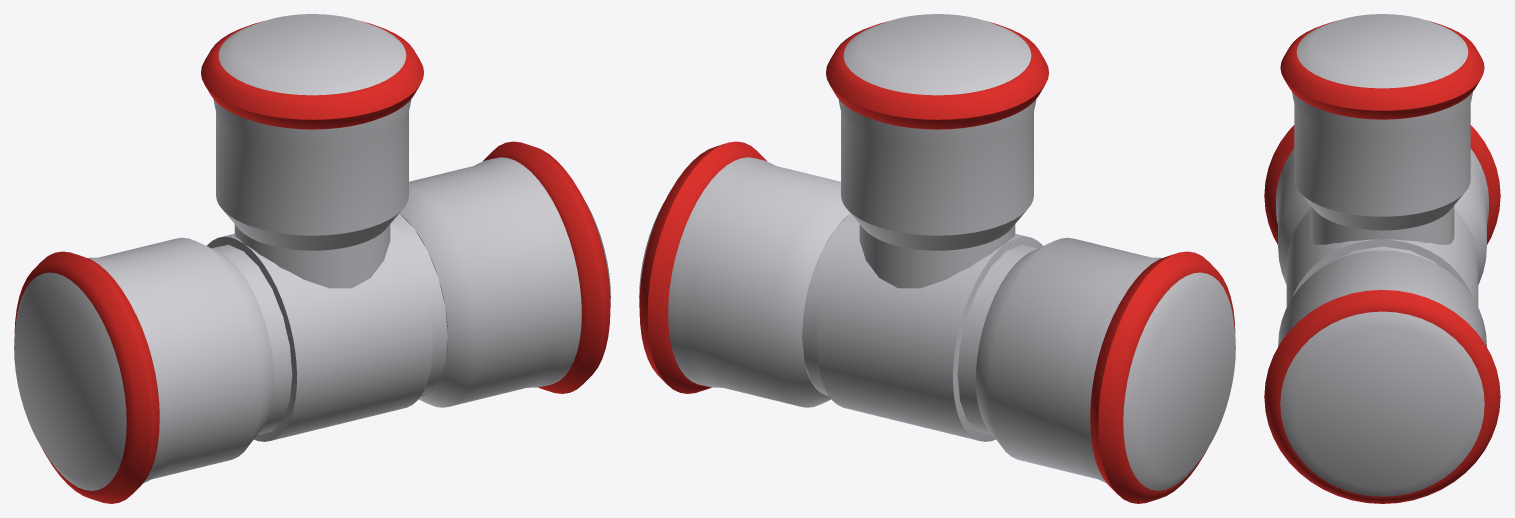
File: fitting_tee_28x22_r.glb
3 renders of one model, left to right at view 1: azimuth 30°, elevation 25°; view 2: azimuth 150°, elevation 25°; view 3: azimuth 270°, elevation 25°, orthographic. The views are drawn at different scales.
Parts seen in each view (by area): view 1: раструб.001, раструб.002, раструб, узел, кольцо пресс.001, кольцо пресс.002, кольцо пресс, корпус, корпус.001; view 2: раструб.001, раструб.002, раструб, узел, кольцо пресс.001, кольцо пресс.002, кольцо пресс, корпус, корпус.001; view 3: раструб, раструб.002, кольцо пресс, кольцо пресс.002, узел, раструб.001, кольцо пресс.001, корпус.001, корпус.
Boxes of the visible parts, x1,y1,x2,y2 form: раструб.001: (14, 237, 274, 490); раструб.002: (213, 14, 411, 250); раструб: (399, 157, 610, 407); узел: (207, 222, 432, 441); кольцо пресс.001: (14, 251, 159, 503); кольцо пресс.002: (201, 21, 423, 129); кольцо пресс: (482, 141, 610, 393); корпус: (212, 213, 447, 435); корпус.001: (234, 224, 390, 288); раструб.001: (975, 237, 1235, 490); раструб.002: (838, 14, 1036, 250); раструб: (639, 157, 850, 407); узел: (817, 222, 1042, 441); кольцо пресс.001: (1090, 251, 1235, 503); кольцо пресс.002: (826, 21, 1048, 129); кольцо пресс: (639, 141, 767, 393); корпус: (802, 213, 1037, 435); корпус.001: (859, 224, 1015, 288); раструб: (1278, 250, 1486, 496); раструб.002: (1292, 14, 1472, 230); кольцо пресс: (1264, 290, 1500, 503); кольцо пресс.002: (1280, 20, 1484, 119); узел: (1286, 209, 1478, 306); раструб.001: (1276, 148, 1488, 284); кольцо пресс.001: (1264, 125, 1500, 244); корпус.001: (1310, 205, 1454, 244); корпус: (1327, 246, 1437, 264).
Bounding box in the file's own units: 0.092 × 0.0691 × 0.0412.
